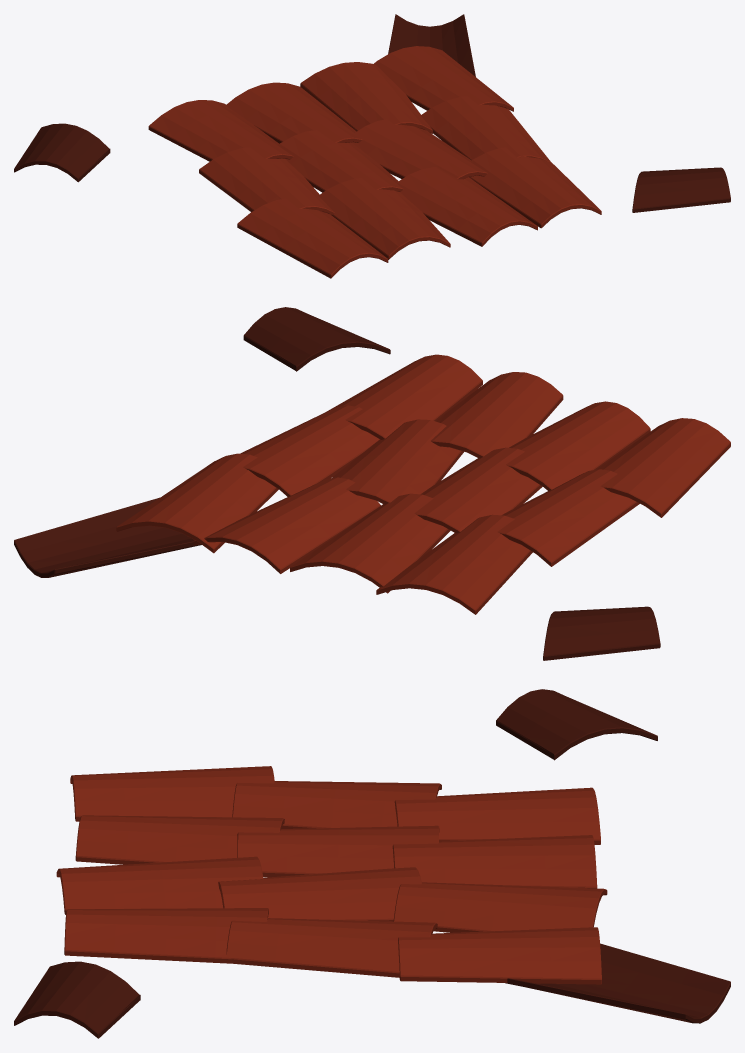
File: DEBRIS_07_RoofTileCluster.obj
The picture shows the model from 3 angles, top to bottom: view 1: azimuth 30°, elevation 25°; view 2: azimuth 150°, elevation 25°; view 3: azimuth 270°, elevation 25°; orthographic projection. The views are drawn at different scales.
Parts seen in each view (by area): view 1: DEBRIS_07_RoofTileCluster_Tiles, DEBRIS_07_RoofTileCluster_Cracked_Halves; view 2: DEBRIS_07_RoofTileCluster_Tiles, DEBRIS_07_RoofTileCluster_Cracked_Halves; view 3: DEBRIS_07_RoofTileCluster_Tiles, DEBRIS_07_RoofTileCluster_Cracked_Halves.
Boxes of the visible parts, x1,y1,x2,y2 form: DEBRIS_07_RoofTileCluster_Tiles: (148,46,601,278); DEBRIS_07_RoofTileCluster_Cracked_Halves: (14,14,730,212); DEBRIS_07_RoofTileCluster_Tiles: (116,354,730,614); DEBRIS_07_RoofTileCluster_Cracked_Halves: (14,307,660,660); DEBRIS_07_RoofTileCluster_Tiles: (56,766,607,984); DEBRIS_07_RoofTileCluster_Cracked_Halves: (14,689,730,1038).
Bounding box in the file's own units: 1.51 × 0.082 × 1.35.
